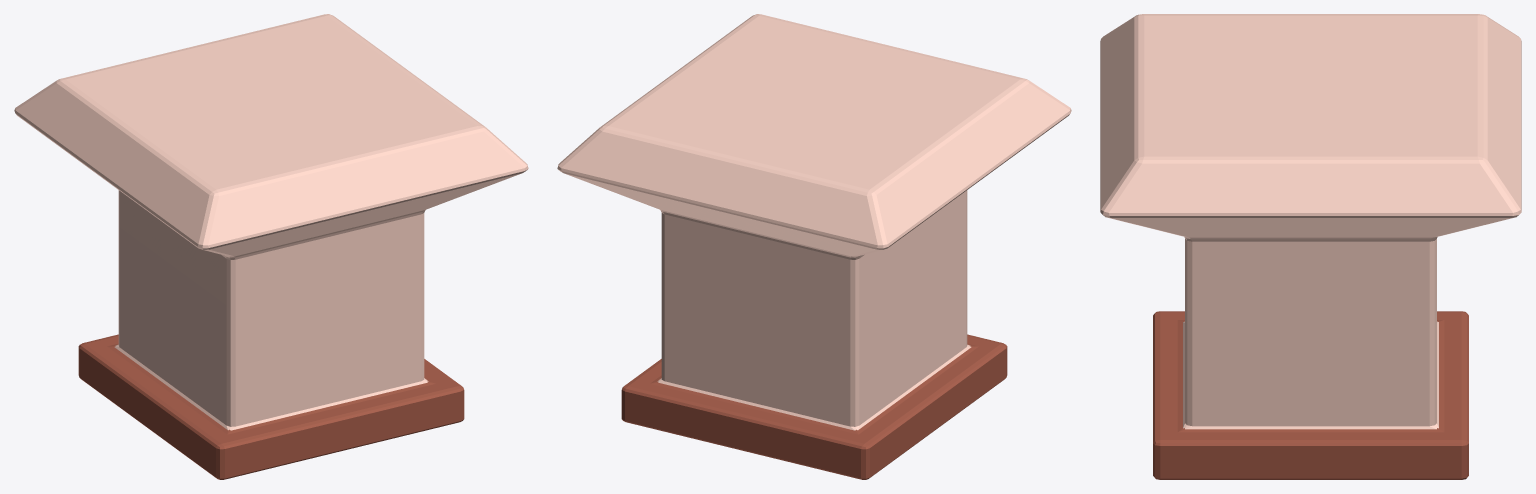
Rendered from item-stand10.fbx.
3 views of the same model, side by side, from view 1: azimuth 30°, elevation 25°; view 2: azimuth 150°, elevation 25°; view 3: azimuth 270°, elevation 25° (orthographic). The views are drawn at different scales.
Parts seen in each view (by area): view 1: Cube.107; view 2: Cube.107; view 3: Cube.107.
Part boxes in pixels (x1=…): Cube.107: x1=14, y1=14, x2=528, y2=479; Cube.107: x1=557, y1=14, x2=1071, y2=479; Cube.107: x1=1100, y1=14, x2=1521, y2=479.
Bounding box in the file's own units: 447 × 385 × 447.
